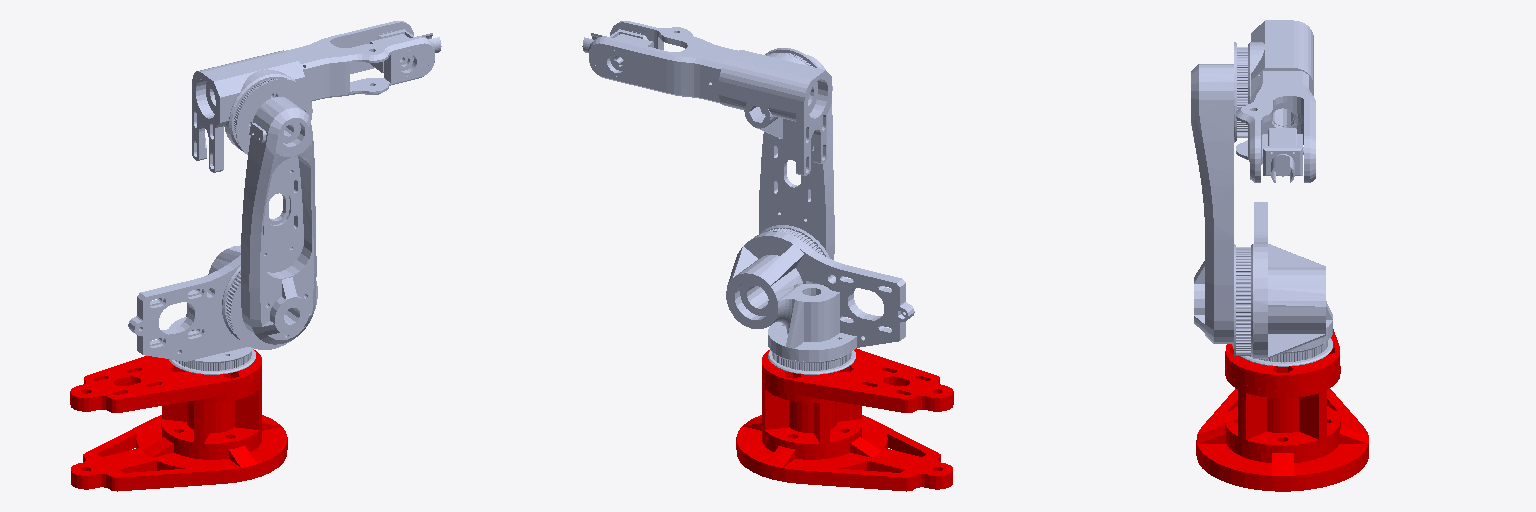
The robot description file, URDF, robot "Robot_URDF":
<?xml version="1.0" encoding="utf-8"?>
<!-- This URDF was automatically created by SolidWorks to URDF Exporter! Originally created by [author] ([email redacted]) 
     Commit Version: 1.6.0-4-g7f85cfe  Build Version: 1.6.7995.38578
     For more information, please see http://wiki.ros.org/sw_urdf_exporter -->
<robot
  name="Robot_URDF">
  <link
    name="base_link">
    <inertial>
      <origin
        xyz="-0.01681 5.7246E-17 0.033683"
        rpy="0 0 0" />
      <mass
        value="0.37245" />
      <inertia
        ixx="0.00026288"
        ixy="-2.4081E-18"
        ixz="-4.2095E-06"
        iyy="0.0005837"
        iyz="6.3701E-19"
        izz="0.00078149" />
    </inertial>
    <visual>
      <origin
        xyz="0 0 0"
        rpy="0 0 0" />
      <geometry>
        <mesh
          filename="package://Robot_URDF/meshes/base_link.STL" />
      </geometry>
      <material
        name="">
        <color
          rgba="1 0 0 1" />
      </material>
    </visual>
    <collision>
      <origin
        xyz="0 0 0"
        rpy="0 0 0" />
      <geometry>
        <mesh
          filename="package://Robot_URDF/meshes/base_link.STL" />
      </geometry>
    </collision>
  </link>
  <link
    name="Link_01">
    <inertial>
      <origin
        xyz="0.012907 -0.0010468 0.12263"
        rpy="0 0 0" />
      <mass
        value="0.23518" />
      <inertia
        ixx="0.00013068"
        ixy="-1.7539E-05"
        ixz="-2.9663E-05"
        iyy="0.00031301"
        iyz="8.0204E-06"
        izz="0.00028226" />
    </inertial>
    <visual>
      <origin
        xyz="0 0 0"
        rpy="0 0 0" />
      <geometry>
        <mesh
          filename="package://Robot_URDF/meshes/Link_01.STL" />
      </geometry>
      <material
        name="">
        <color
          rgba="0.79216 0.81961 0.93333 1" />
      </material>
    </visual>
    <collision>
      <origin
        xyz="0 0 0"
        rpy="0 0 0" />
      <geometry>
        <mesh
          filename="package://Robot_URDF/meshes/Link_01.STL" />
      </geometry>
    </collision>
  </link>
  <joint
    name="Joint_01"
    type="revolute">
    <origin
      xyz="0 0 0"
      rpy="0 0 0" />
    <parent
      link="base_link" />
    <child
      link="Link_01" />
    <axis
      xyz="0 0 1" />
    <limit
      lower="-3.142"
      upper="3.142"
      effort="300"
      velocity="3" />
  </joint>
  <link
    name="Link_02">
    <inertial>
      <origin
        xyz="0.037446 -0.039857 0.18678"
        rpy="0 0 0" />
      <mass
        value="0.22611" />
      <inertia
        ixx="0.00071193"
        ixy="-2.3124E-08"
        ixz="1.0948E-06"
        iyy="0.00077193"
        iyz="9.8911E-06"
        izz="7.9191E-05" />
    </inertial>
    <visual>
      <origin
        xyz="0 0 0"
        rpy="0 0 0" />
      <geometry>
        <mesh
          filename="package://Robot_URDF/meshes/Link_02.STL" />
      </geometry>
      <material
        name="">
        <color
          rgba="0.79216 0.81961 0.93333 1" />
      </material>
    </visual>
    <collision>
      <origin
        xyz="0 0 0"
        rpy="0 0 0" />
      <geometry>
        <mesh
          filename="package://Robot_URDF/meshes/Link_02.STL" />
      </geometry>
    </collision>
  </link>
  <joint
    name="Joint_02"
    type="revolute">
    <origin
      xyz="0 0 0"
      rpy="0 0 0" />
    <parent
      link="Link_01" />
    <child
      link="Link_02" />
    <axis
      xyz="0 1 0" />
    <limit
      lower="-1.57"
      upper="1.57"
      effort="200"
      velocity="3" />
  </joint>
  <link
    name="Link_03">
    <inertial>
      <origin
        xyz="0.03383 -0.0086999 0.30191"
        rpy="0 0 0" />
      <mass
        value="0.15398" />
      <inertia
        ixx="7.1059E-05"
        ixy="2.8189E-06"
        ixz="-3.6573E-06"
        iyy="0.0001078"
        iyz="-6.2512E-06"
        izz="8.6612E-05" />
    </inertial>
    <visual>
      <origin
        xyz="0 0 0"
        rpy="0 0 0" />
      <geometry>
        <mesh
          filename="package://Robot_URDF/meshes/Link_03.STL" />
      </geometry>
      <material
        name="">
        <color
          rgba="0.79216 0.81961 0.93333 1" />
      </material>
    </visual>
    <collision>
      <origin
        xyz="0 0 0"
        rpy="0 0 0" />
      <geometry>
        <mesh
          filename="package://Robot_URDF/meshes/Link_03.STL" />
      </geometry>
    </collision>
  </link>
  <joint
    name="Joint_03"
    type="revolute">
    <origin
      xyz="0 0 0"
      rpy="0 0 0" />
    <parent
      link="Link_02" />
    <child
      link="Link_03" />
    <axis
      xyz="0 -1 0" />
    <limit
      lower="-1.57"
      upper="1.57"
      effort="200"
      velocity="3" />
  </joint>
  <link
    name="Link_04">
    <inertial>
      <origin
        xyz="0.11945 0.000807 0.31037"
        rpy="0 0 0" />
      <mass
        value="0.082509" />
      <inertia
        ixx="2.6186E-05"
        ixy="-9.0856E-07"
        ixz="-3.2953E-08"
        iyy="8.1549E-05"
        iyz="-1.2049E-08"
        izz="8.8551E-05" />
    </inertial>
    <visual>
      <origin
        xyz="0 0 0"
        rpy="0 0 0" />
      <geometry>
        <mesh
          filename="package://Robot_URDF/meshes/Link_04.STL" />
      </geometry>
      <material
        name="">
        <color
          rgba="0.79216 0.81961 0.93333 1" />
      </material>
    </visual>
    <collision>
      <origin
        xyz="0 0 0"
        rpy="0 0 0" />
      <geometry>
        <mesh
          filename="package://Robot_URDF/meshes/Link_04.STL" />
      </geometry>
    </collision>
  </link>
  <joint
    name="Joint_04"
    type="revolute">
    <origin
      xyz="0 0 0"
      rpy="0 0 0" />
    <parent
      link="Link_03" />
    <child
      link="Link_04" />
    <axis
      xyz="1 0 0" />
    <limit
      lower="-3.142"
      upper="3.142"
      effort="200"
      velocity="3" />
  </joint>
  <link
    name="Link_05">
    <inertial>
      <origin
        xyz="0.17291 0.00072078 0.31038"
        rpy="0 0 0" />
      <mass
        value="0.0058433" />
      <inertia
        ixx="9.7352E-07"
        ixy="3.1913E-21"
        ixz="-1.4861E-22"
        iyy="6.7237E-07"
        iyz="2.2772E-21"
        izz="1.177E-06" />
    </inertial>
    <visual>
      <origin
        xyz="0 0 0"
        rpy="0 0 0" />
      <geometry>
        <mesh
          filename="package://Robot_URDF/meshes/Link_05.STL" />
      </geometry>
      <material
        name="">
        <color
          rgba="0.79216 0.81961 0.93333 1" />
      </material>
    </visual>
    <collision>
      <origin
        xyz="0 0 0"
        rpy="0 0 0" />
      <geometry>
        <mesh
          filename="package://Robot_URDF/meshes/Link_05.STL" />
      </geometry>
    </collision>
  </link>
  <joint
    name="Joint_05"
    type="revolute">
    <origin
      xyz="0 0 0"
      rpy="0 0 0" />
    <parent
      link="Link_04" />
    <child
      link="Link_05" />
    <axis
      xyz="0 1 0" />
    <limit
      lower="-3.142"
      upper="3.142"
      effort="200"
      velocity="3" />
  </joint>
  <link
    name="Link_06">
    <inertial>
      <origin
        xyz="0.16788 2.3453E-15 0.31038"
        rpy="0 0 0" />
      <mass
        value="0.013337" />
      <inertia
        ixx="8.4792E-07"
        ixy="-4.7069E-21"
        ixz="-1.8058E-21"
        iyy="1.466E-06"
        iyz="3.7668E-10"
        izz="1.4832E-06" />
    </inertial>
    <visual>
      <origin
        xyz="0 0 0"
        rpy="0 0 0" />
      <geometry>
        <mesh
          filename="package://Robot_URDF/meshes/Link_06.STL" />
      </geometry>
      <material
        name="">
        <color
          rgba="0.79216 0.81961 0.93333 1" />
      </material>
    </visual>
    <collision>
      <origin
        xyz="0 0 0"
        rpy="0 0 0" />
      <geometry>
        <mesh
          filename="package://Robot_URDF/meshes/Link_06.STL" />
      </geometry>
    </collision>
  </link>
  <joint
    name="Joint_06"
    type="revolute">
    <origin
      xyz="0 0 0"
      rpy="0 0 0" />
    <parent
      link="Link_05" />
    <child
      link="Link_06" />
    <axis
      xyz="1 0 0" />
    <limit
      lower="-3.142"
      upper="3.142"
      effort="200"
      velocity="3" />
  </joint>
</robot>

--- Render facts (derived) ---
Views: 3 orthographic renders of the robot side by side, from view 1: azimuth 30°, elevation 25°; view 2: azimuth 150°, elevation 25°; view 3: azimuth 270°, elevation 25°.
Model Robot_URDF with 7 links and 6 joints (6 revolute), rooted at base_link, posed all joints at 0.
Visible links, largest first — view 1: base_link, Link_02, Link_01, Link_03, Link_04; view 2: base_link, Link_01, Link_03, Link_04, Link_02; view 3: base_link, Link_02, Link_01, Link_04, Link_03, Link_06, Link_05.
Link boxes in pixels (x1,y1,x2,y2): base_link: (70, 350, 287, 491); Link_02: (222, 97, 317, 349); Link_01: (128, 245, 255, 374); Link_03: (192, 50, 312, 172); Link_04: (286, 21, 434, 101); base_link: (736, 348, 953, 491); Link_01: (726, 231, 914, 374); Link_03: (719, 48, 831, 175); Link_04: (589, 21, 737, 103); Link_02: (755, 55, 834, 259); base_link: (1196, 329, 1368, 491); Link_02: (1191, 64, 1253, 358); Link_01: (1232, 202, 1332, 366); Link_04: (1236, 71, 1315, 182); Link_03: (1234, 20, 1313, 142); Link_06: (1268, 128, 1296, 182); Link_05: (1263, 134, 1303, 175).
Bounding box of the posed robot: 0.3328 × 0.124 × 0.3304 m (x, y, z).
7 mesh visuals loaded from 7 distinct referenced files (7 binary STL).